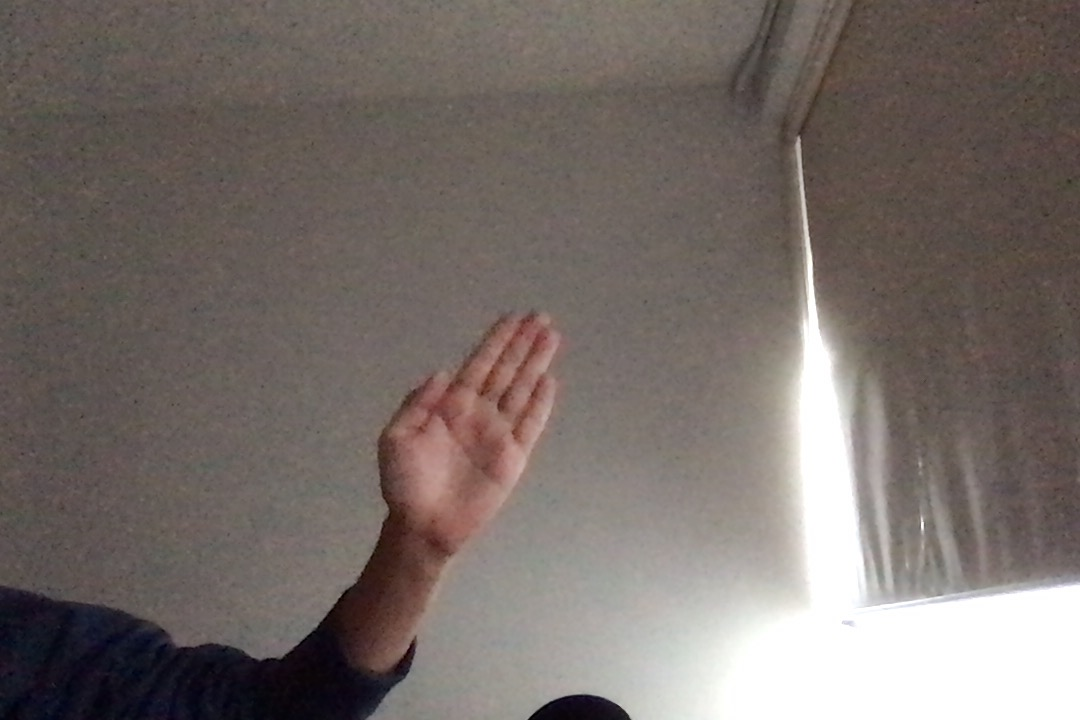palmhand: (369, 303, 565, 555)
